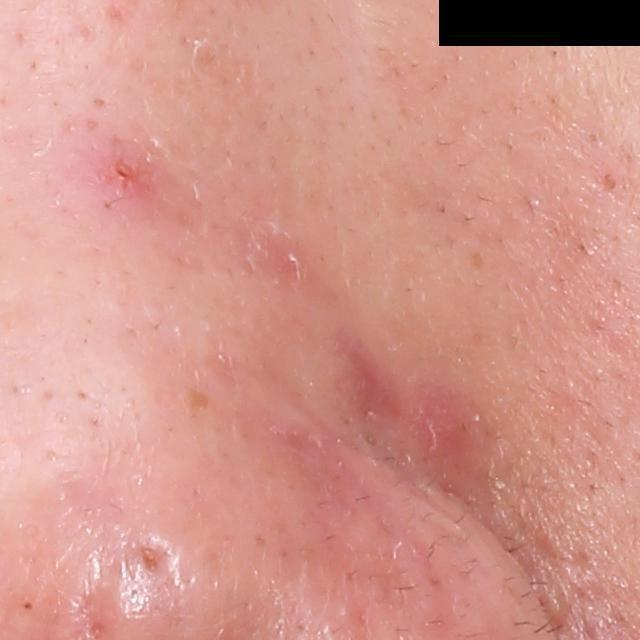atrophic_scar: (134, 536, 171, 582)
